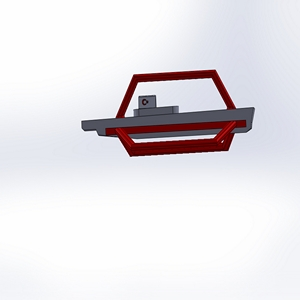submarine: (76, 68, 269, 183)
